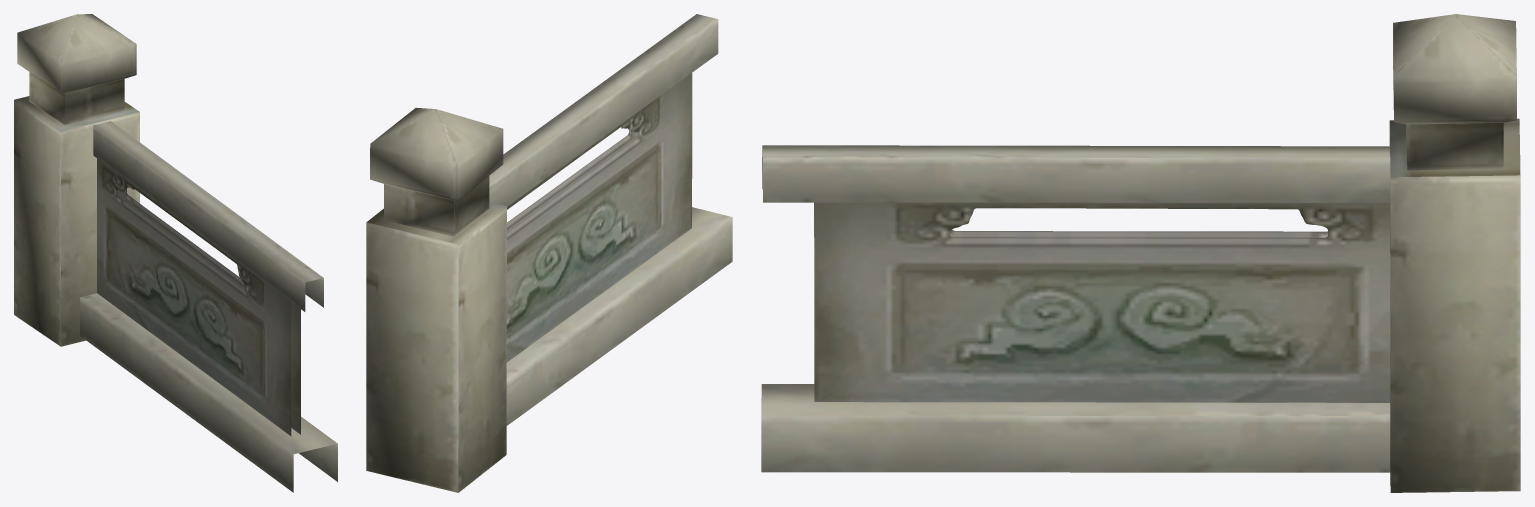
The model's file is environment_common_Stonewall_004_a.FBX.
3 renders of one model, left to right at view 1: azimuth 30°, elevation 25°; view 2: azimuth 150°, elevation 25°; view 3: azimuth 270°, elevation 25°, orthographic. The views are drawn at different scales.
Visible parts, largest first — view 1: environment_common_Stonewall_004_a; view 2: environment_common_Stonewall_004_a; view 3: environment_common_Stonewall_004_a.
Boxes of the visible parts, x1,y1,x2,y2 form: environment_common_Stonewall_004_a: (14,14,337,492); environment_common_Stonewall_004_a: (366,14,732,492); environment_common_Stonewall_004_a: (761,14,1520,492).
Bounding box in the file's own units: 27.12 × 96.85 × 148.
